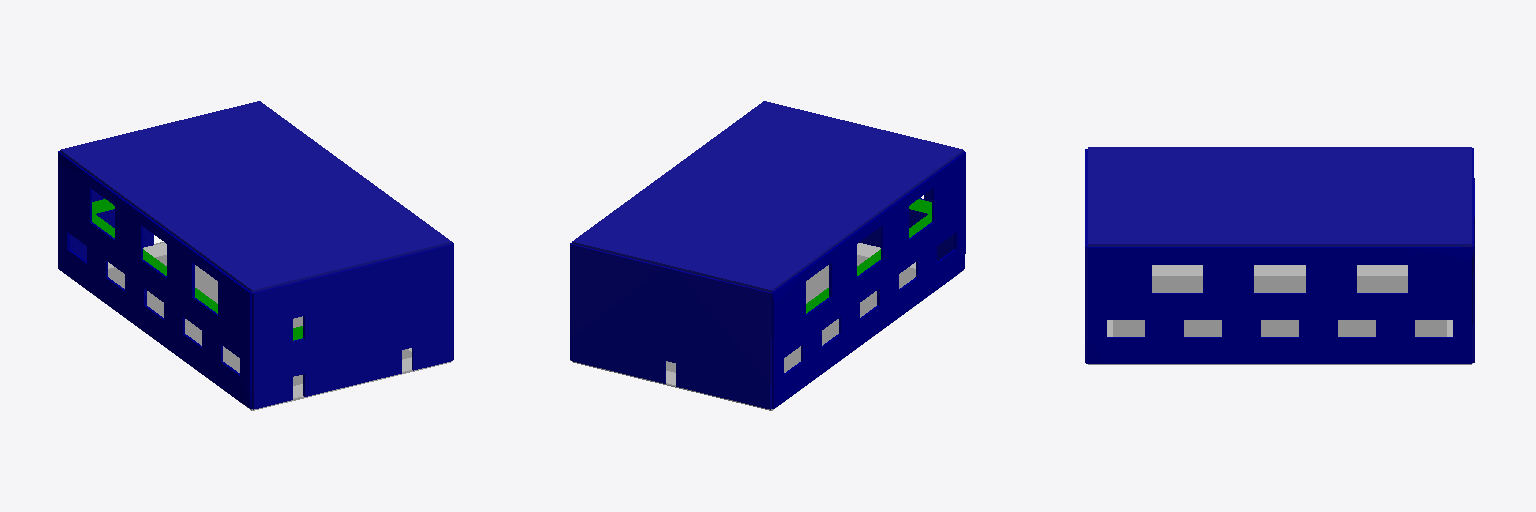
Rendered from basket-ball11.obj.
3 renders of one model, left to right at view 1: azimuth 30°, elevation 25°; view 2: azimuth 150°, elevation 25°; view 3: azimuth 270°, elevation 25°, orthographic.
Parts seen in each view (by area): view 1: ROOM; view 2: ROOM; view 3: ROOM.
Boxes of the visible parts, x1=… form: ROOM: x1=58, y1=101, x2=453, y2=410; ROOM: x1=570, y1=101, x2=965, y2=410; ROOM: x1=1085, y1=147, x2=1474, y2=364.
Bounding box in the file's own units: 18.4 × 10.4 × 30.4.